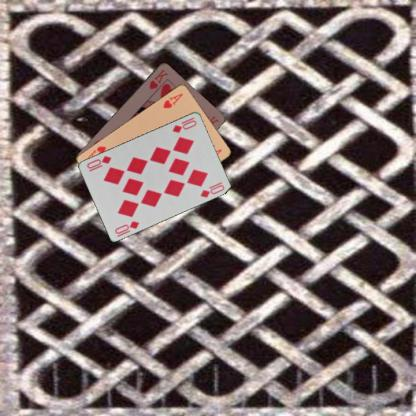10d: (170, 114, 197, 134), (112, 218, 140, 235)
Ah: (160, 91, 184, 109)
Kh: (147, 66, 170, 91)
